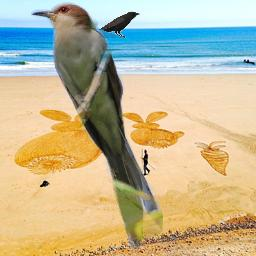Crow: (99, 11, 140, 38)
Cuckoo: (31, 2, 163, 252)
